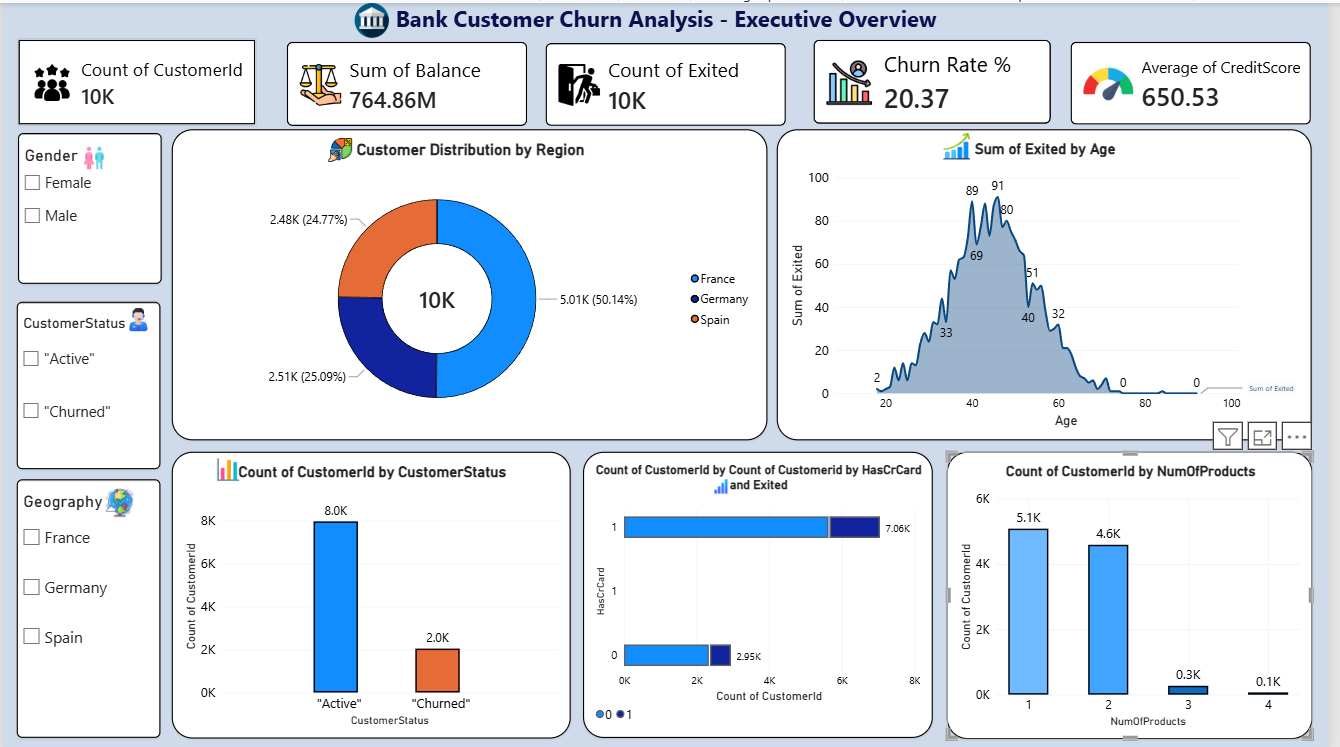

Layout of this report page (visuals, bound fields, positions):
{"tool":"powerbi","page":{"name":"Page 1","canvas":[1920,1080],"ordinal":0},"visuals":[{"type":"cardVisual","fields":{"Data":["CountNonNull(Churn_Modelling.CustomerId)"]},"box":[19.9,57.9,358.3,121.2],"z":0},{"type":"cardVisual","fields":{"Data":["CountNonNull(Churn_Modelling.Exited)"]},"box":[785.4,57.9,372.8,119.4],"z":1000},{"type":"cardVisual","fields":{"Data":["Sum(Churn_Modelling.Balance)"]},"box":[390.9,57.9,381.8,115.8],"z":2000},{"type":"cardVisual","fields":{"Data":["Avg(Churn_Modelling.CreditScore)"]},"box":[1545.5,56.1,374.6,119.4],"z":3000},{"type":"donutChart","title":"Customer Distribution by Region","fields":{"Category":["Churn_Modelling.Geography"],"Y":["CountNonNull(Churn_Modelling.CustomerId)"]},"box":[244,182,862,450],"z":4000},{"type":"clusteredColumnChart","title":"Count of CustomerId by CustomerStatus","fields":{"Category":["Churn_Modelling.CustomerStatus"],"Y":["CountNonNull(Churn_Modelling.CustomerId)"]},"box":[245,650,577.5,415],"z":5000},{"type":"lineChart","title":"Sum of Exited  by Age","fields":{"Category":["Churn_Modelling.Age"],"Y":["Sum(Churn_Modelling.Exited)"]},"box":[1120,182,774,450],"z":6000},{"type":"barChart","title":"Count of CustomerId by Count of Customerid by HasCrCard and Exited","fields":{"Category":["Churn_Modelling.HasCrCard"],"Y":["CountNonNull(Churn_Modelling.CustomerId)"],"Series":["Churn_Modelling.Exited"]},"box":[846.9,666,506,414],"z":7000},{"type":"slicer","fields":{"Values":["Churn_Modelling.Geography"]},"box":[20,690,208,374],"z":8000},{"type":"slicer","fields":{"Values":["Churn_Modelling.Gender"]},"box":[21.7,188.2,208,218],"z":9000},{"type":"slicer","fields":{"Values":["Churn_Modelling.CustomerStatus"]},"box":[20,432,208,242],"z":10000},{"type":"textbox","box":[0,0,1920,56],"z":11000},{"type":"clusteredColumnChart","title":"Count of CustomerId by NumOfProducts","fields":{"Category":["Churn_Modelling.NumOfProducts"],"Y":["CountNonNull(Churn_Modelling.CustomerId)"]},"box":[1365.8,649.3,529.9,416.1],"z":12000},{"type":"cardVisual","fields":{"Data":["Churn_Modelling.Churn Rate %"]},"box":[1172.7,57.9,360.1,119.4],"z":13000},{"type":"image","box":[94.5,207.3,74.5,32.7],"z":14000},{"type":"image","box":[172.7,441.8,48.2,33.6],"z":15000},{"type":"image","box":[141,702,56,42],"z":16000},{"type":"image","box":[410.8,0,122.9,50],"z":17000},{"type":"image","box":[461.1,195.6,53.3,34.4],"z":18000},{"type":"image","box":[1339.2,188.3,83.3,38.3],"z":19000},{"type":"image","box":[309.1,650,32.7,51.8],"z":20000},{"type":"image","box":[1005.5,689.1,66.4,21.8],"z":21000},{"type":"image","box":[1411.2,656.2,38.8,40],"z":22000}]}

Visuals, with their boxes in screenshot pixels (x1, y1, x2, y2), scaled from the page's 1920x1080 canvas onto the 1340x747 screenshot:
cardVisual - CountNonNull(Churn_Modelling.CustomerId): [left=14, top=40, right=264, bottom=124]
cardVisual - CountNonNull(Churn_Modelling.Exited): [left=548, top=40, right=808, bottom=123]
cardVisual - Sum(Churn_Modelling.Balance): [left=273, top=40, right=539, bottom=120]
cardVisual - Avg(Churn_Modelling.CreditScore): [left=1079, top=39, right=1339, bottom=121]
"Customer Distribution by Region" donutChart: [left=170, top=126, right=772, bottom=437]
"Count of CustomerId by CustomerStatus" clusteredColumnChart: [left=171, top=450, right=574, bottom=737]
"Sum of Exited  by Age" lineChart: [left=782, top=126, right=1322, bottom=437]
"Count of CustomerId by Count of Customerid by HasCrCard and Exited" barChart: [left=591, top=461, right=944, bottom=746]
slicer - Churn_Modelling.Geography: [left=14, top=477, right=159, bottom=736]
slicer - Churn_Modelling.Gender: [left=15, top=130, right=160, bottom=281]
slicer - Churn_Modelling.CustomerStatus: [left=14, top=299, right=159, bottom=466]
textbox: [left=0, top=0, right=1339, bottom=39]
"Count of CustomerId by NumOfProducts" clusteredColumnChart: [left=953, top=449, right=1323, bottom=737]
cardVisual - Churn_Modelling.Churn Rate %: [left=818, top=40, right=1070, bottom=123]
image: [left=66, top=143, right=118, bottom=166]
image: [left=121, top=306, right=154, bottom=329]
image: [left=98, top=486, right=137, bottom=515]
image: [left=287, top=0, right=372, bottom=35]
image: [left=322, top=135, right=359, bottom=159]
image: [left=935, top=130, right=993, bottom=157]
image: [left=216, top=450, right=239, bottom=485]
image: [left=702, top=477, right=748, bottom=492]
image: [left=985, top=454, right=1012, bottom=482]
